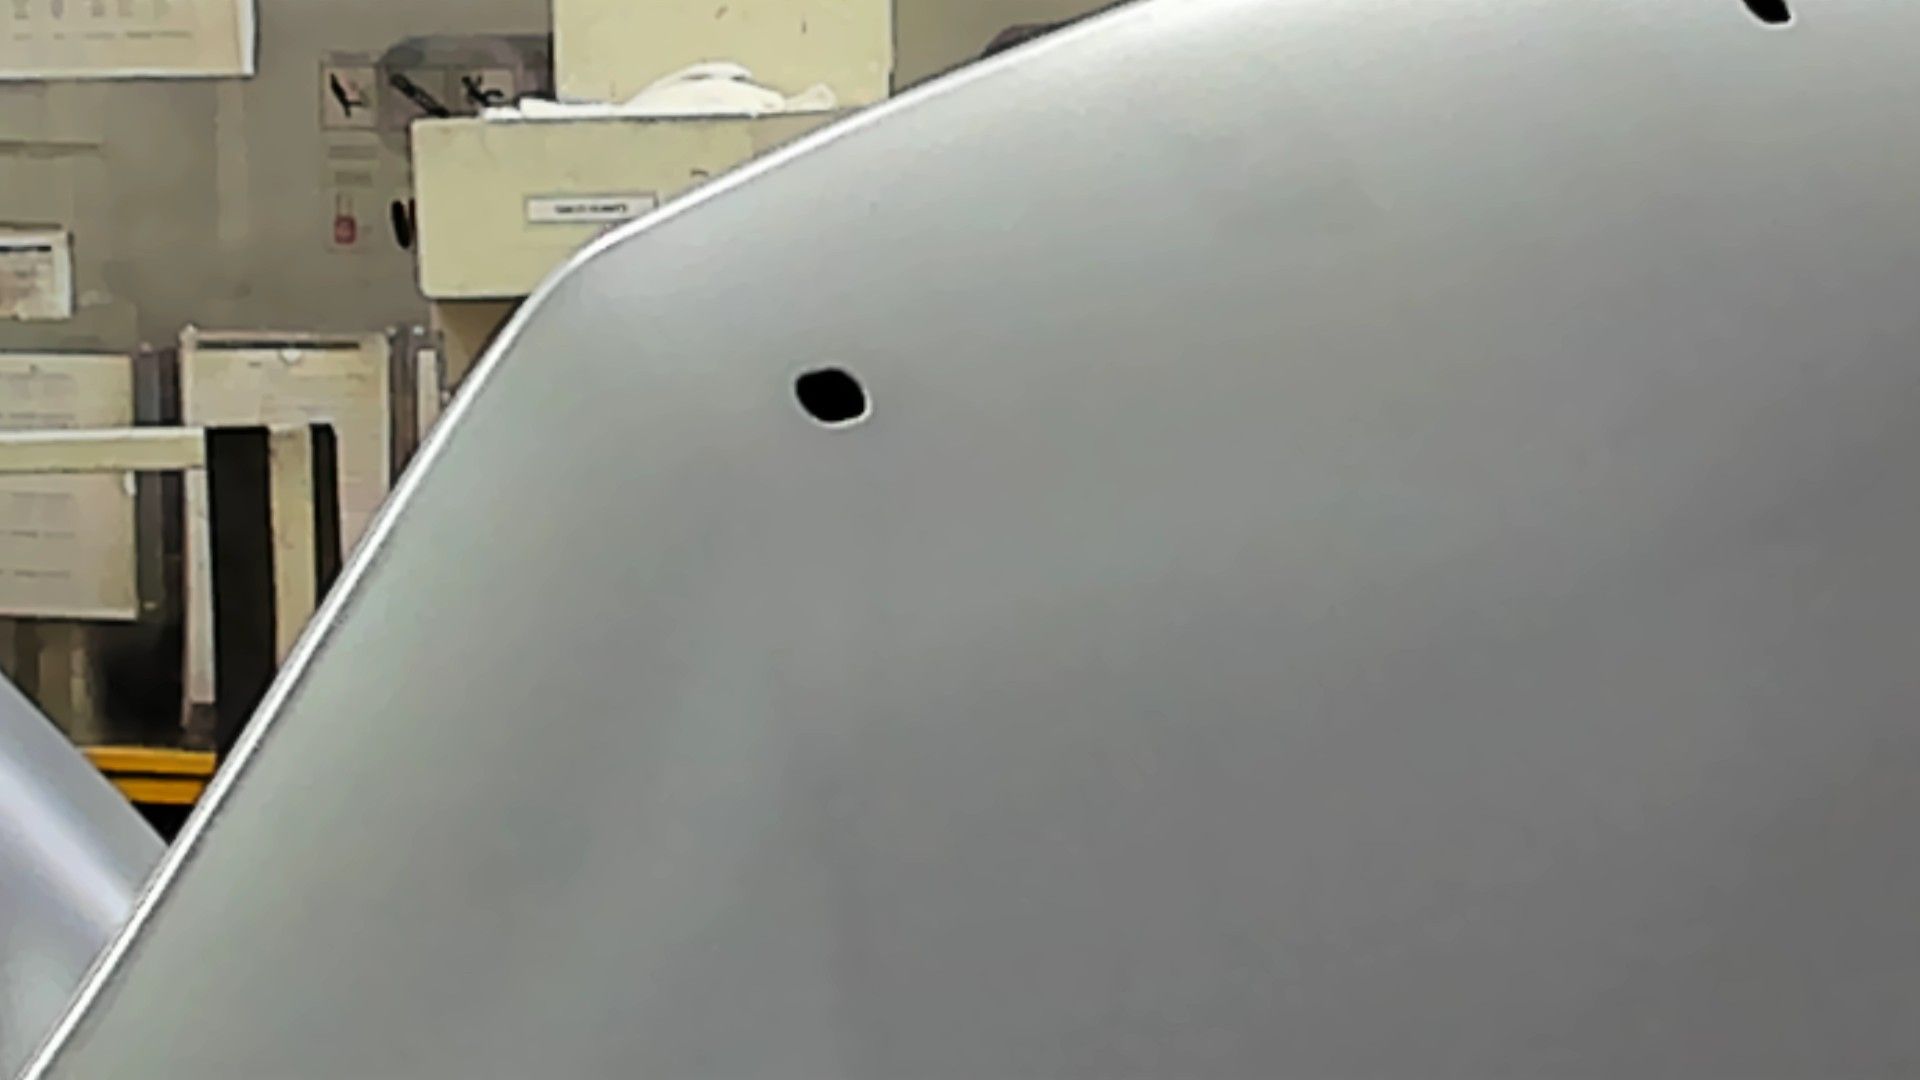amorfo: (789, 363, 876, 436), (1737, 1, 1801, 29)
